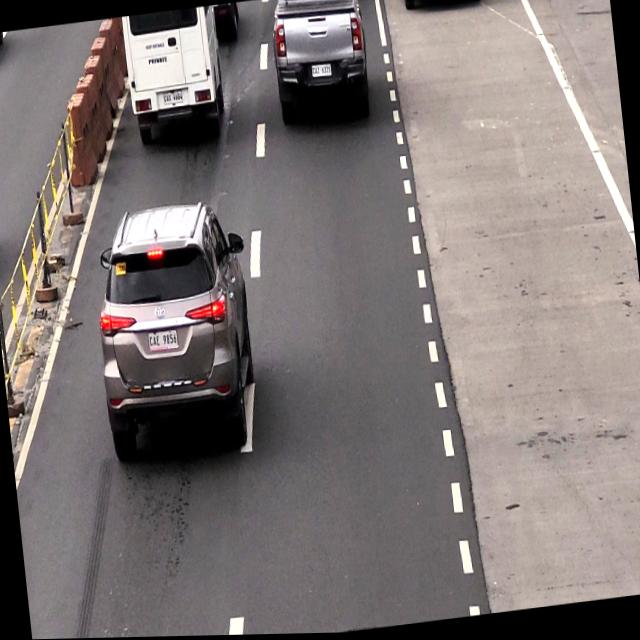Car: (88, 194, 262, 460), (120, 6, 228, 147), (268, 0, 373, 124)
License-Plate: (147, 328, 179, 357), (161, 89, 184, 109), (309, 63, 333, 81)
